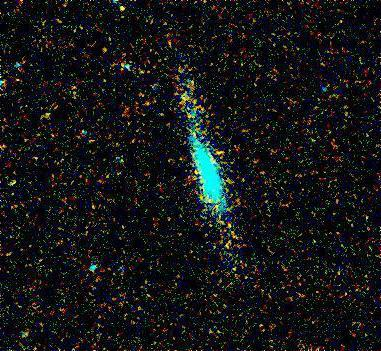star: (105, 0, 135, 26)
